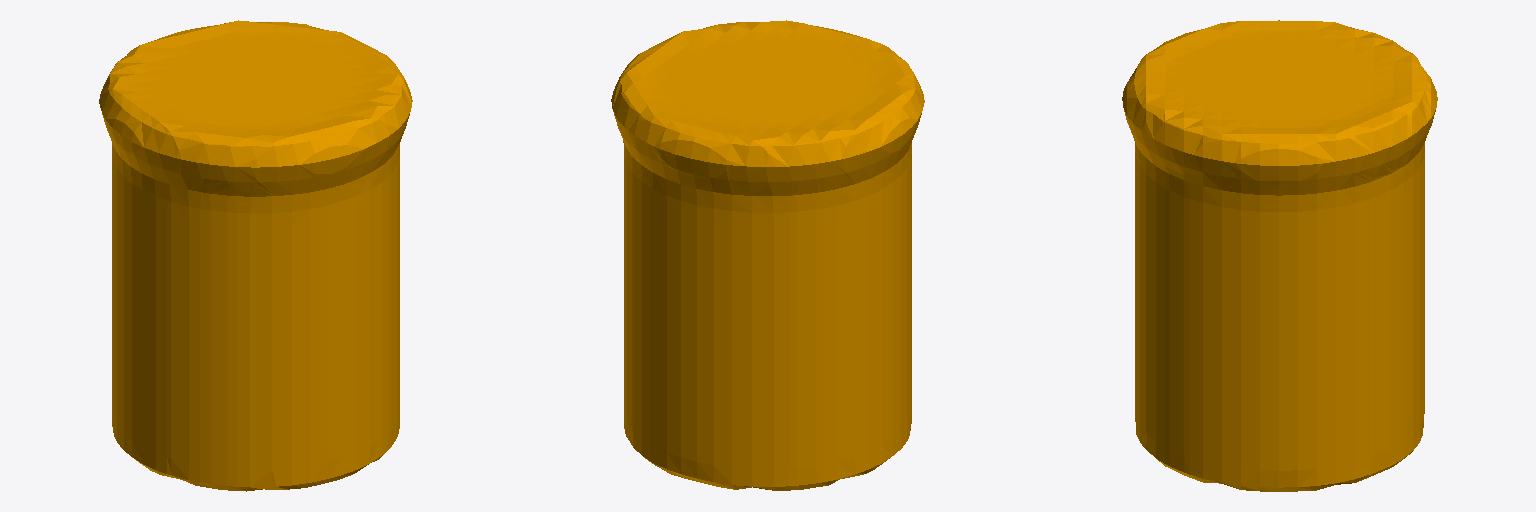
The robot description file, URDF, robot "cylinder_../../meshes/cylinders/cylinder_86.stl":
<?xml version="1.0" encoding="utf-8"?>  <robot name="cylinder_../../meshes/cylinders/cylinder_86.stl">   <link name="cylinder_../../meshes/cylinders/cylinder_86.stl">     <visual>       <geometry>         <mesh filename="../meshes/cylinders/cylinder_86.stl" scale="1 1 1"/>       </geometry>     </visual>     <collision>       <geometry>         <mesh filename="../meshes/cylinders/cylinder_86.stl" scale="1 1 1"/>       </geometry>     </collision>     <inertial>        <origin         xyz="0 0 0"         rpy="0 0 0" />       <mass value="0.4754950533316163"/>       <origin rpy="0 0 0" xyz="0 0 0"/>       <inertia ixx="0.0006038021985661422" ixy="-2.5450162742706994e-08" ixz="-2.5210320164583357e-08" iyy="0.0006037964381446362" iyz="-3.2552954171331577e-08" izz="0.00034938152374663597"/>     </inertial>   </link>  </robot>

--- What the picture shows (computed from the rendered views, not written in the file) ---
3 views of the same robot in one strip: view 1: azimuth 30°, elevation 25°; view 2: azimuth 150°, elevation 25°; view 3: azimuth 270°, elevation 25° (orthographic).
Robot: cylinder_../../meshes/cylinders/cylinder_86.stl — 1 links, 0 joints (none); root link cylinder_../../meshes/cylinders/cylinder_86.stl; default pose: every joint at zero.
Links seen in each view (by area): view 1: cylinder_../../meshes/cylinders/cylinder_86.stl; view 2: cylinder_../../meshes/cylinders/cylinder_86.stl; view 3: cylinder_../../meshes/cylinders/cylinder_86.stl.
Link boxes in pixels (bbox=[...]): cylinder_../../meshes/cylinders/cylinder_86.stl: bbox=[99, 20, 412, 491]; cylinder_../../meshes/cylinders/cylinder_86.stl: bbox=[611, 20, 924, 490]; cylinder_../../meshes/cylinders/cylinder_86.stl: bbox=[1122, 20, 1437, 491].
Bounding box of the posed robot: 0.083 × 0.083 × 0.1038 m (x, y, z).
1 mesh visuals loaded from 1 distinct referenced files (1 binary STL).